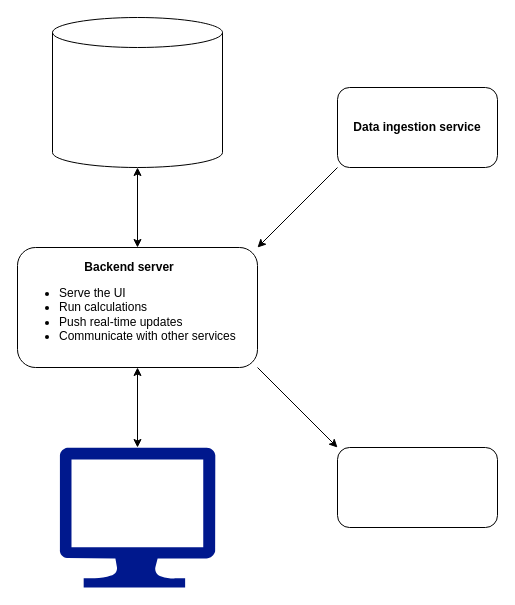
Some shapes in this 515 by 605 pixel diagram are drawn without their labels. Each missing label, with the box of its shape:
Database: (52, 16, 222, 168)
Reprting service: (336, 446, 498, 528)
